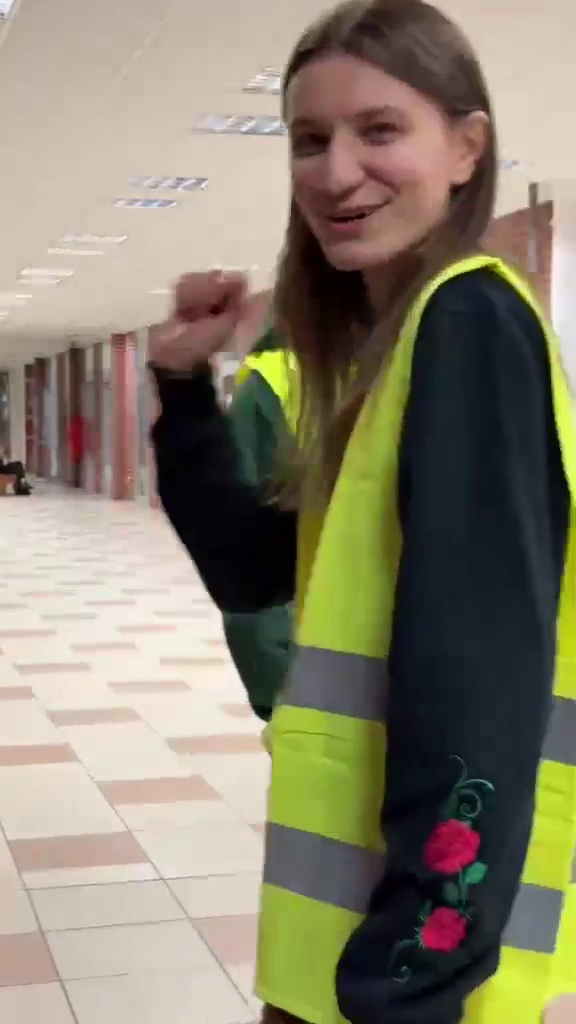vest: (150, 11, 576, 990)
